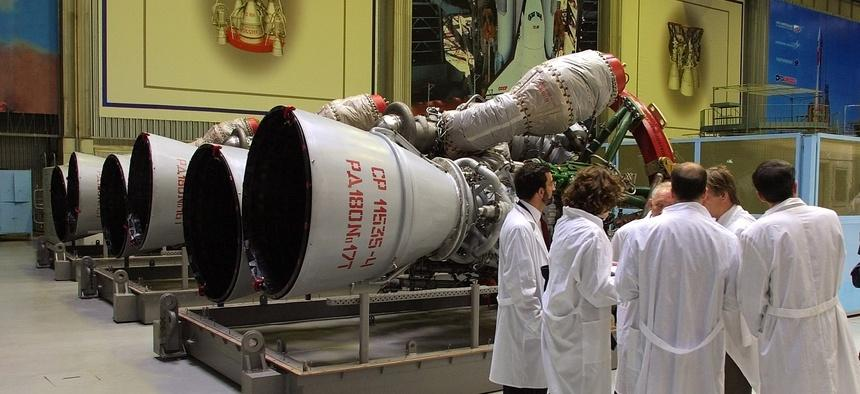thruster: (238, 103, 474, 302), (179, 140, 278, 307), (126, 130, 201, 252), (65, 147, 118, 243), (98, 152, 137, 261), (47, 163, 86, 245), (236, 3, 266, 46), (678, 66, 698, 99), (665, 60, 681, 92), (269, 35, 287, 58), (690, 64, 704, 92), (214, 24, 229, 46)
